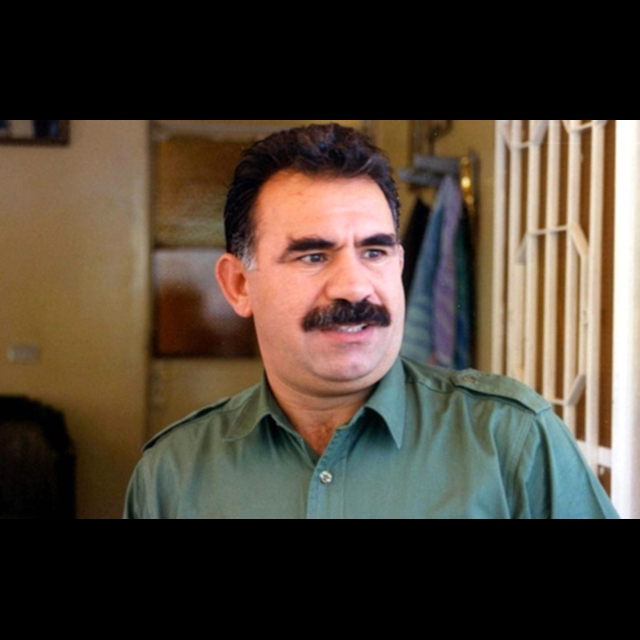APO: (209, 125, 445, 478)
